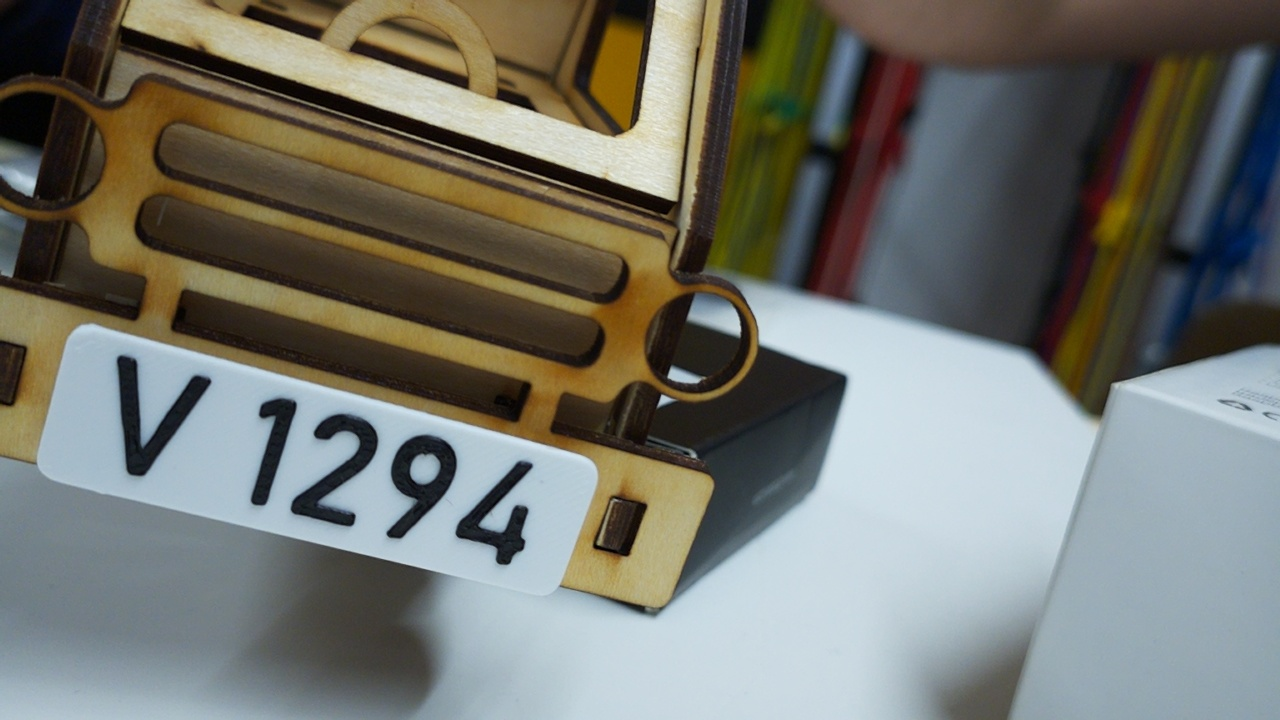license_plate: (31, 316, 602, 597)
